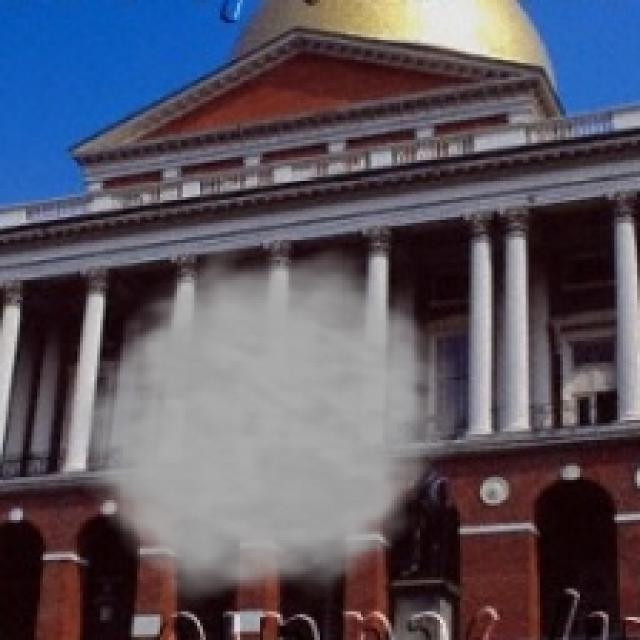smoke: (60, 246, 480, 614)
